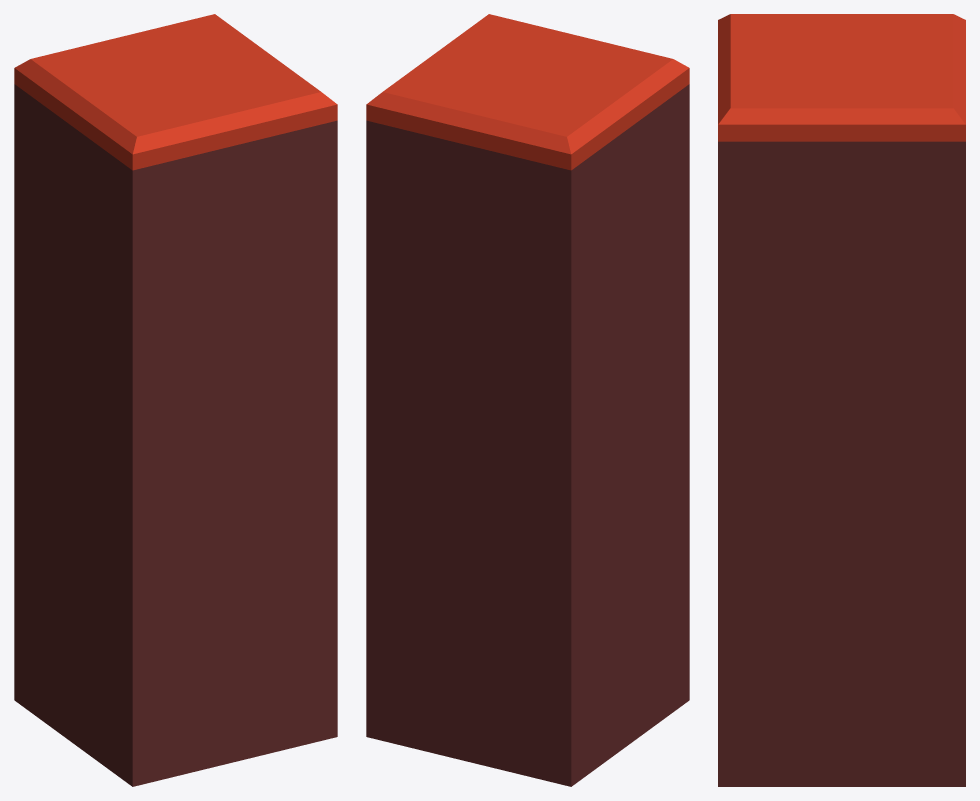
Rendered from Cliff2.fbx.
3 renders of one model, left to right at view 1: azimuth 30°, elevation 25°; view 2: azimuth 150°, elevation 25°; view 3: azimuth 270°, elevation 25°, orthographic. The views are drawn at different scales.
Parts seen in each view (by area): view 1: Cube; view 2: Cube; view 3: Cube.
Part boxes in pixels (<box>): Cube: <box>14,14,337,786</box>; Cube: <box>366,14,689,786</box>; Cube: <box>718,14,965,786</box>.
Bounding box in the file's own units: 2 × 6 × 2.
